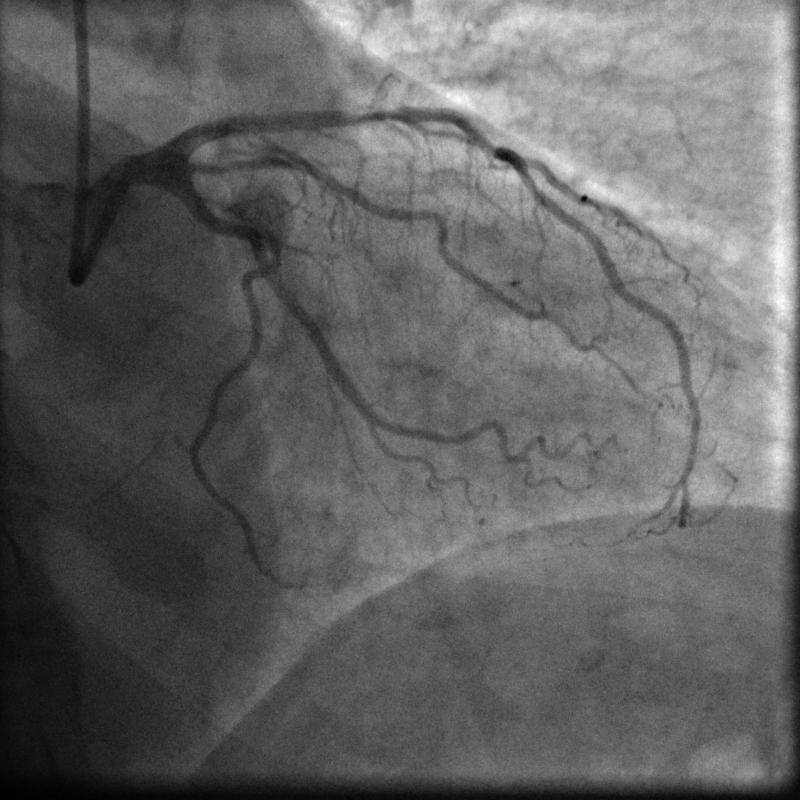Stenosis: (334, 101, 403, 125)
